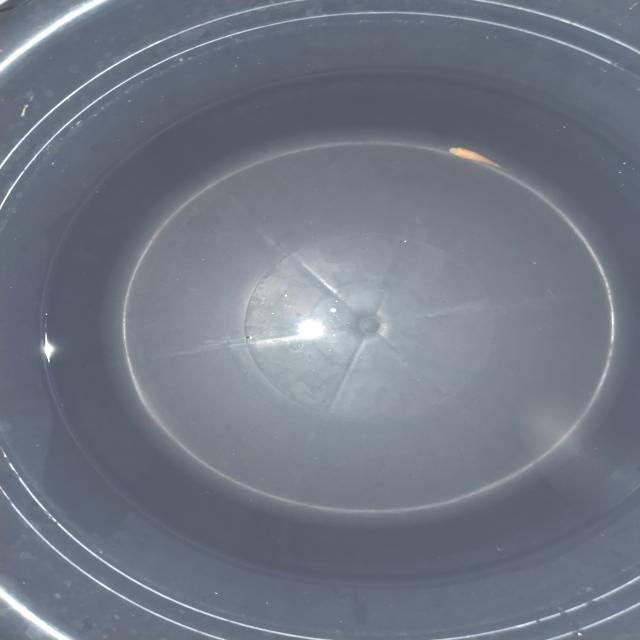nila: (446, 144, 508, 172)
